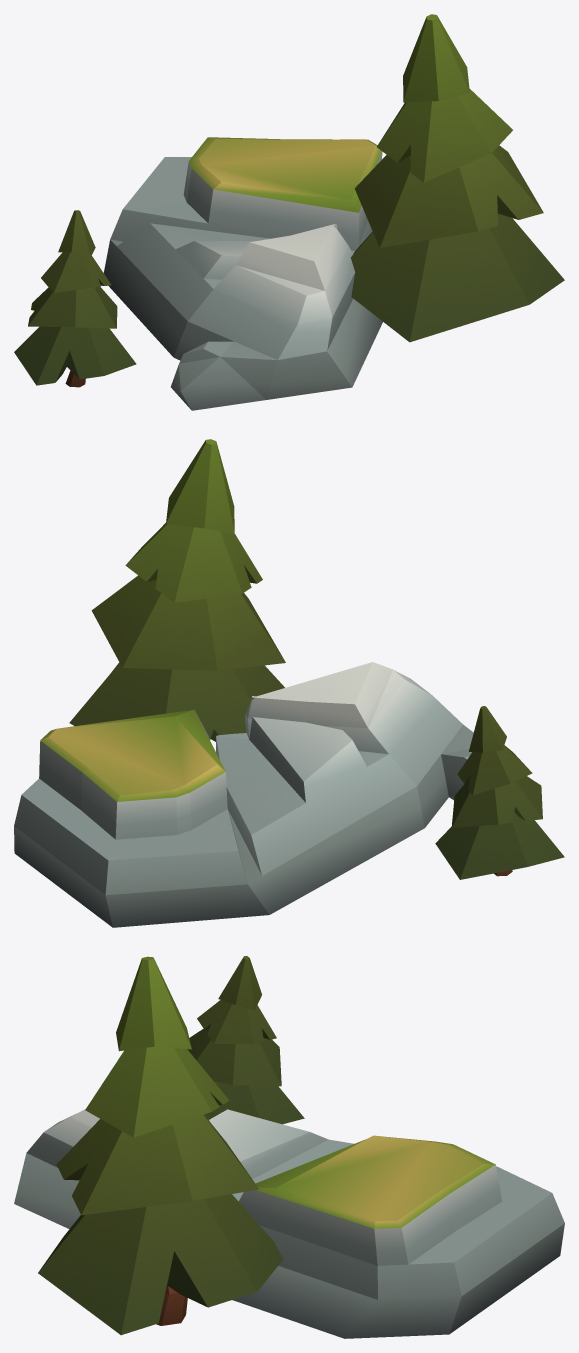
Rendered from pine-tree-stone.glb.
The picture shows the model from 3 angles, top to bottom: view 1: azimuth 30°, elevation 25°; view 2: azimuth 150°, elevation 25°; view 3: azimuth 270°, elevation 25°; orthographic projection. The views are drawn at different scales.
Visible parts, largest first — view 1: plane, crown; view 2: plane, crown; view 3: plane, crown, trunk.
Part boxes in pixels (box(x1,y1,x2,y2)): plane: box(104, 137, 382, 410); crown: box(14, 14, 564, 385); plane: box(14, 662, 473, 927); crown: box(69, 439, 564, 879); plane: box(14, 1109, 564, 1338); crown: box(38, 956, 304, 1335); trunk: box(156, 1285, 187, 1325).
Bounding box in the file's own units: 1.67 × 1.03 × 1.48.
Materials: 1 (1 with a texture image).
